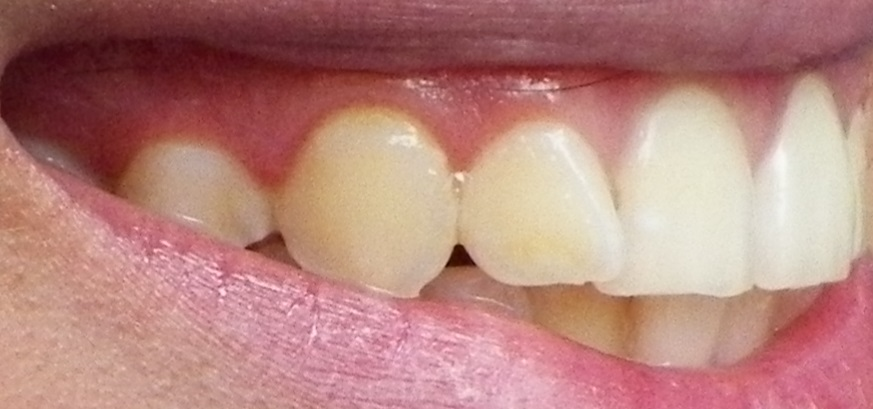boca: (34, 86, 867, 363)
